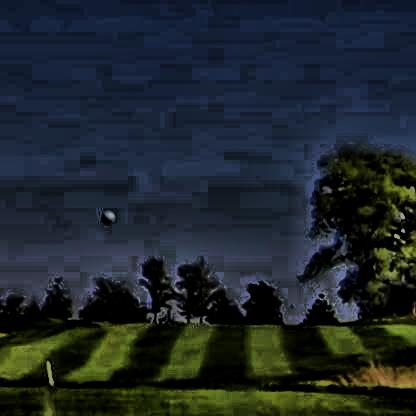golfball: (98, 206, 113, 222)
